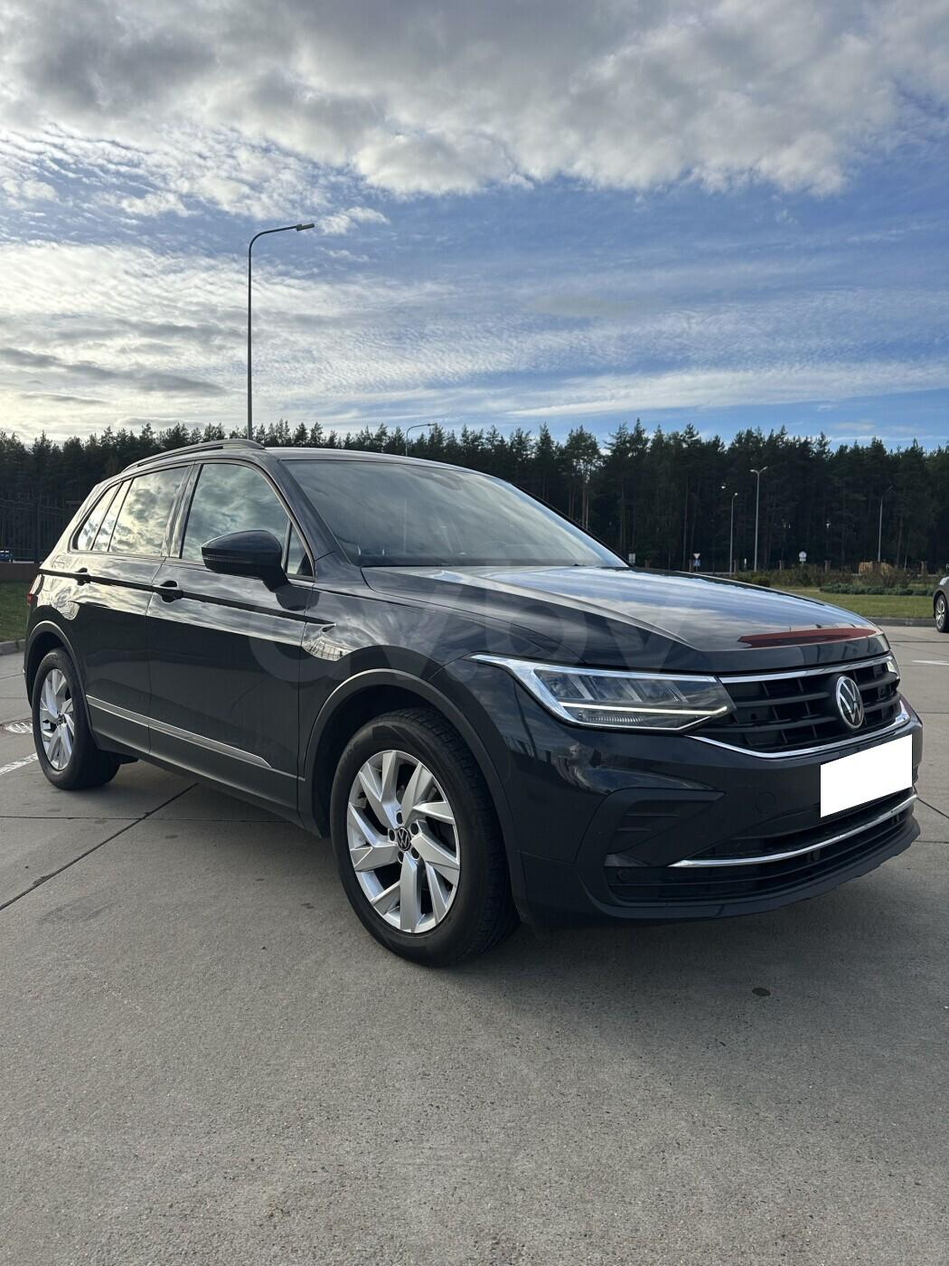Tiguan_2016-2021: (22, 436, 927, 962)
